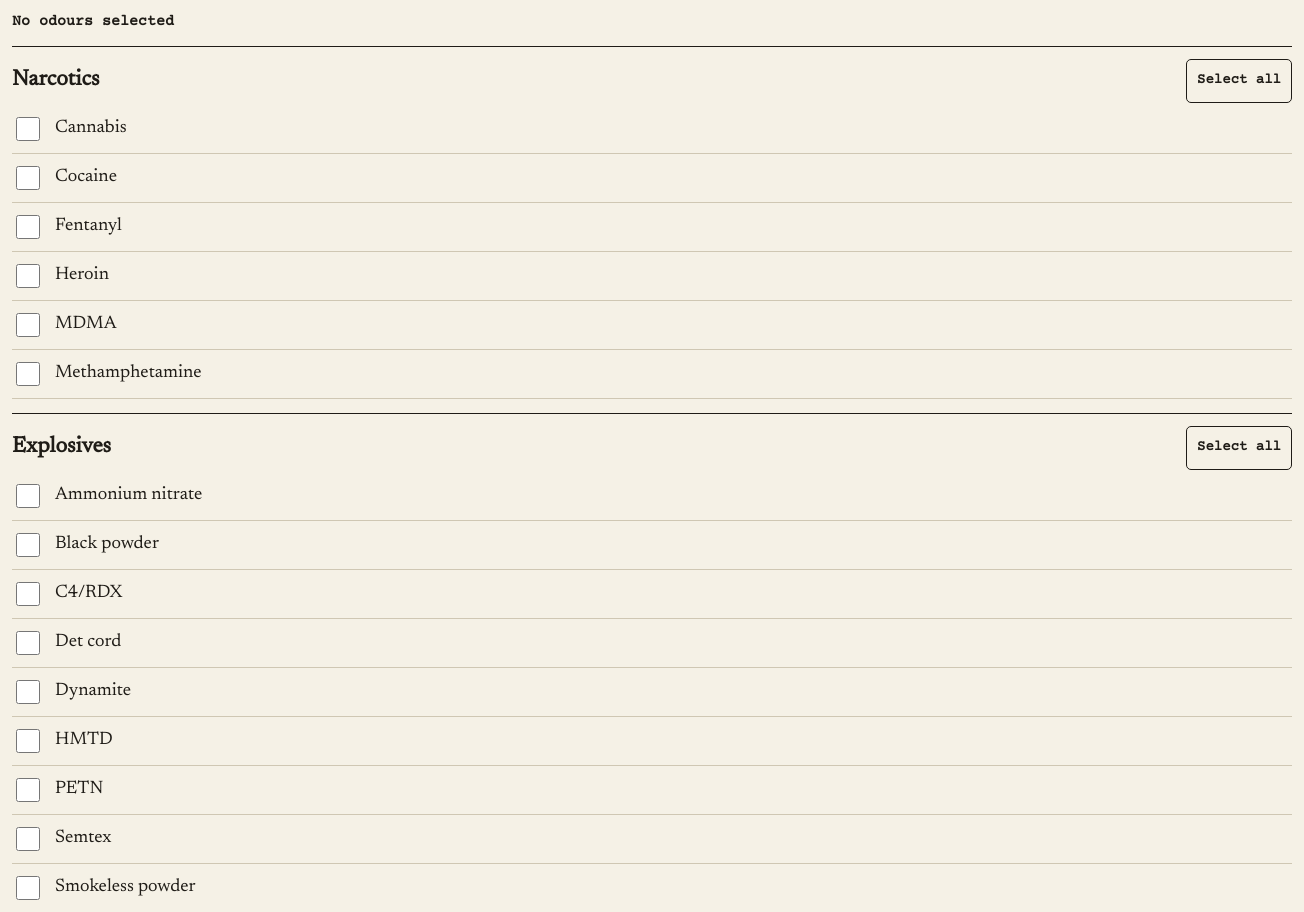
Test: OdourPicker › says "1 odour selected" and "No odours selected"
Expected: the text "No odours selected" is shown, [12,13,174,30]
What coordinates should you click on to do the following:
click the checkbox labelled "Cocaine"
I would click on:
 (28, 178)
Its box is [16,166,40,190].
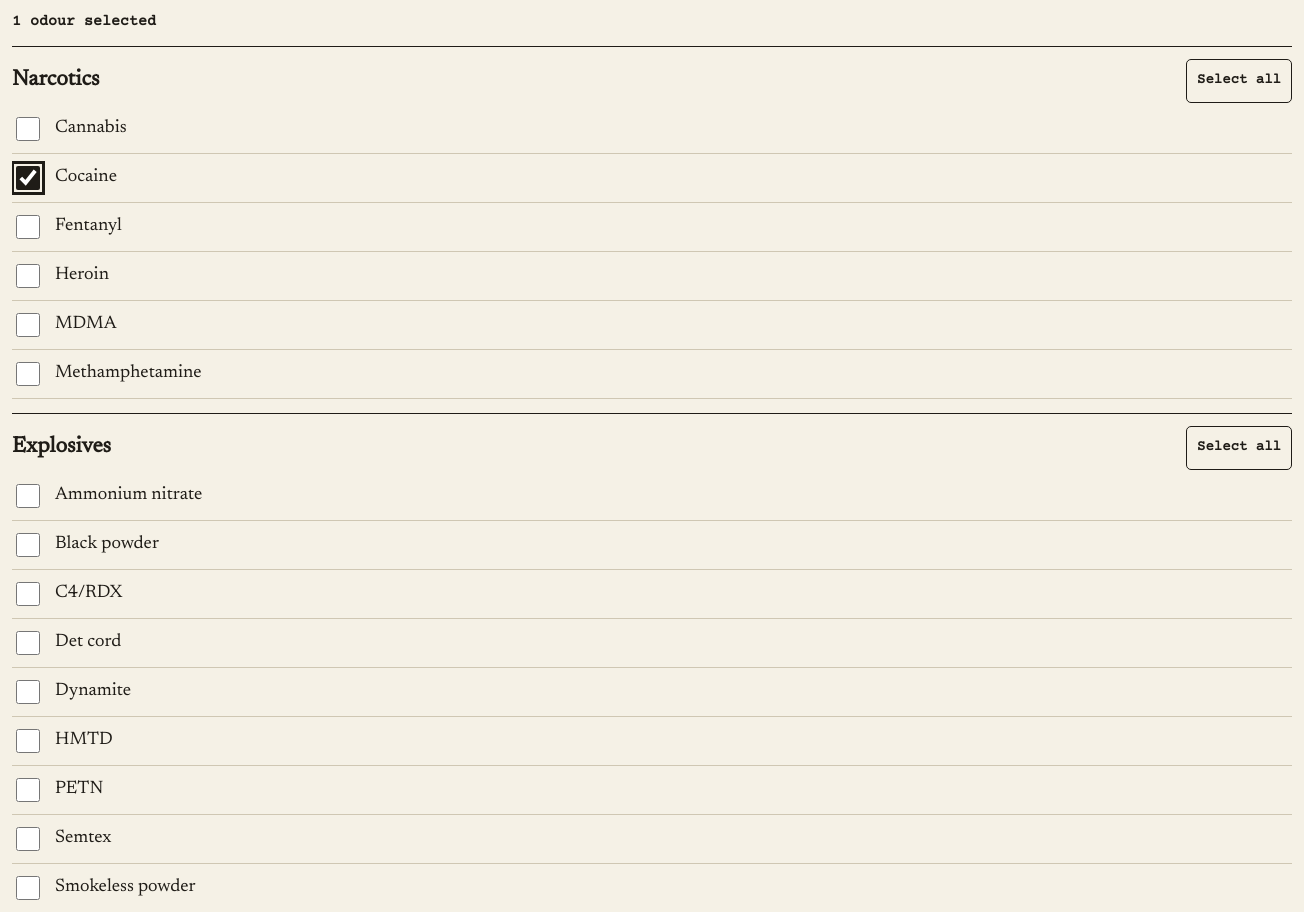
Result: the text "1 odour selected" is shown at [12,13,156,30]
